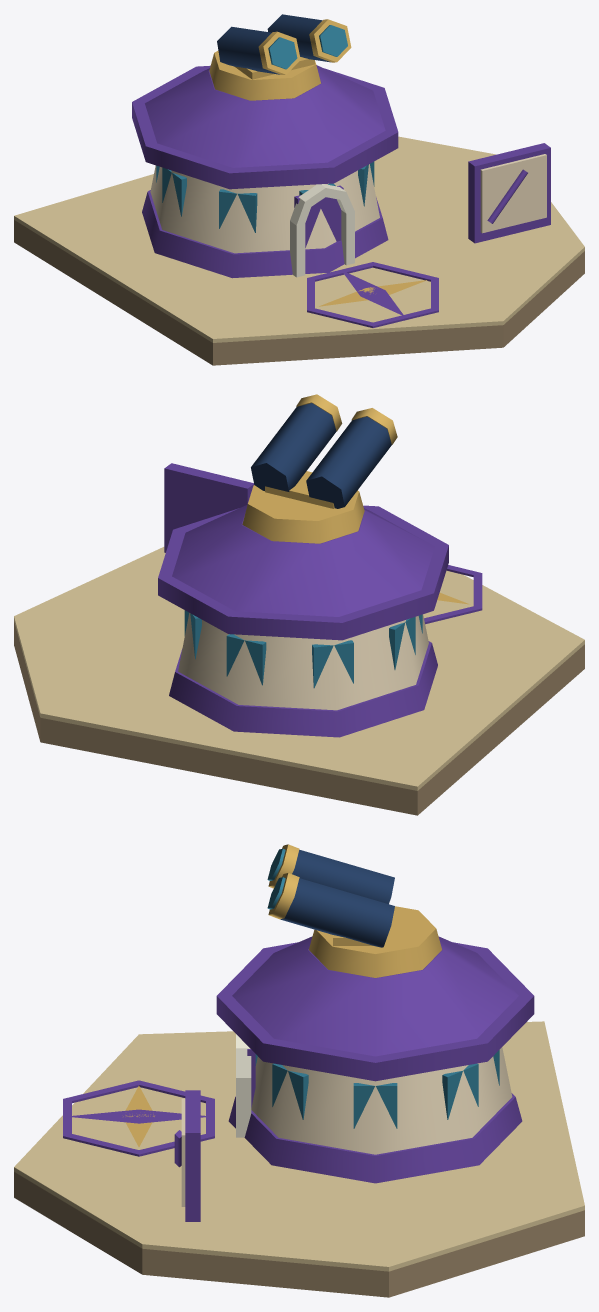
Rendered from scout-center-lv1.glb.
3 views of the same model, one above another, from view 1: azimuth 30°, elevation 25°; view 2: azimuth 150°, elevation 25°; view 3: azimuth 270°, elevation 25° (orthographic). The views are drawn at different scales.
Visible parts, largest first — view 1: foundation_sand, faceted_roof_violet, foundation_stoneDark, octagonal_office_cream, observation_eave_violet, office_plinth_violet, map_board_cream, roof_binoculars_naval, optic_pedestal_gold, compass_violet, map_board_violet, entrance_arch_white (+5 smaller); view 2: foundation_sand, faceted_roof_violet, foundation_stoneDark, octagonal_office_cream, observation_eave_violet, roof_binoculars_naval, office_plinth_violet, optic_pedestal_gold, map_board_violet, office_windows_glass, optic_rims_gold, compass_violet (+1 smaller); view 3: foundation_sand, faceted_roof_violet, octagonal_office_cream, foundation_stoneDark, observation_eave_violet, office_plinth_violet, roof_binoculars_naval, optic_pedestal_gold, compass_violet, office_windows_glass, map_board_violet, entrance_arch_white (+3 smaller).
Boxes of the visible parts, box(x1,y1,x2,y2) form: foundation_sand: box(14, 136, 584, 342); faceted_roof_violet: box(145, 65, 385, 167); foundation_stoneDark: box(14, 220, 584, 365); octagonal_office_cream: box(150, 164, 379, 253); observation_eave_violet: box(132, 65, 398, 189); office_plinth_violet: box(142, 190, 388, 278); map_board_cream: box(480, 154, 546, 233); roof_binoculars_naval: box(217, 14, 330, 74); optic_pedestal_gold: box(209, 51, 320, 100); compass_violet: box(307, 262, 438, 327); map_board_violet: box(468, 143, 550, 243); entrance_arch_white: box(290, 184, 354, 277); foundation_sand: box(14, 547, 584, 790); faceted_roof_violet: box(172, 504, 434, 616); foundation_stoneDark: box(14, 621, 584, 815); octagonal_office_cream: box(178, 613, 428, 710); observation_eave_violet: box(158, 505, 448, 640); roof_binoculars_naval: box(251, 403, 391, 508); office_plinth_violet: box(169, 641, 437, 737); optic_pedestal_gold: box(242, 485, 364, 543); map_board_violet: box(164, 463, 254, 552); office_windows_glass: box(184, 610, 422, 688); optic_rims_gold: box(296, 394, 397, 444); compass_violet: box(424, 565, 482, 624); foundation_sand: box(14, 1021, 584, 1271); faceted_roof_violet: box(232, 936, 518, 1056); octagonal_office_cream: box(251, 1047, 512, 1154); foundation_stoneDark: box(14, 1172, 584, 1297); observation_eave_violet: box(216, 942, 534, 1081); office_plinth_violet: box(228, 1093, 522, 1183); roof_binoculars_naval: box(280, 849, 394, 947); optic_pedestal_gold: box(309, 906, 441, 977); compass_violet: box(63, 1080, 214, 1156); office_windows_glass: box(255, 1050, 499, 1128); map_board_violet: box(185, 1090, 200, 1221); entrance_arch_white: box(236, 1034, 251, 1137).
Size of the model in its own units: 1 by 0.5571 by 0.9826.
